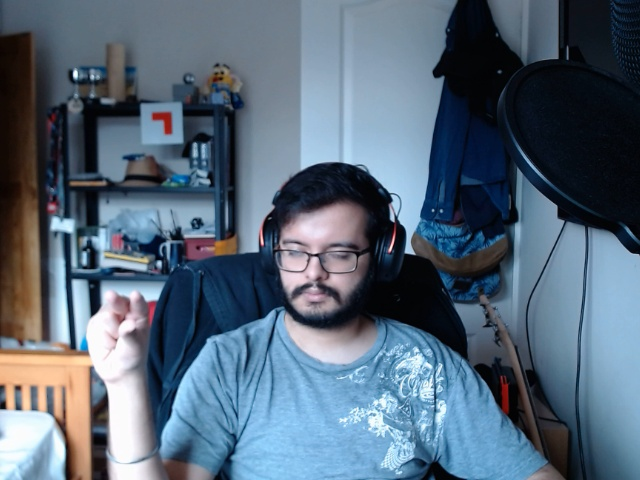No: (75, 275, 165, 401)
